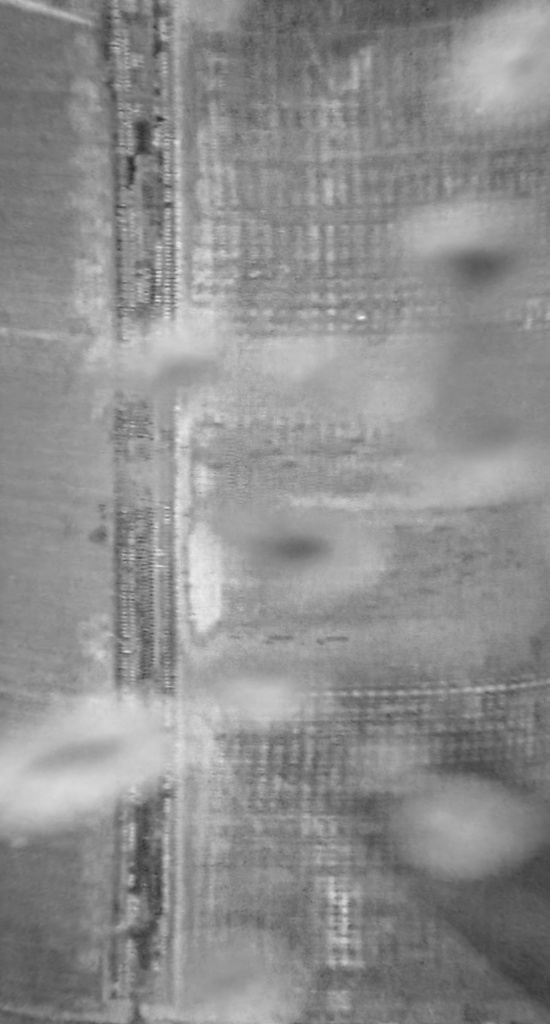splice: (89, 1, 192, 1024)
